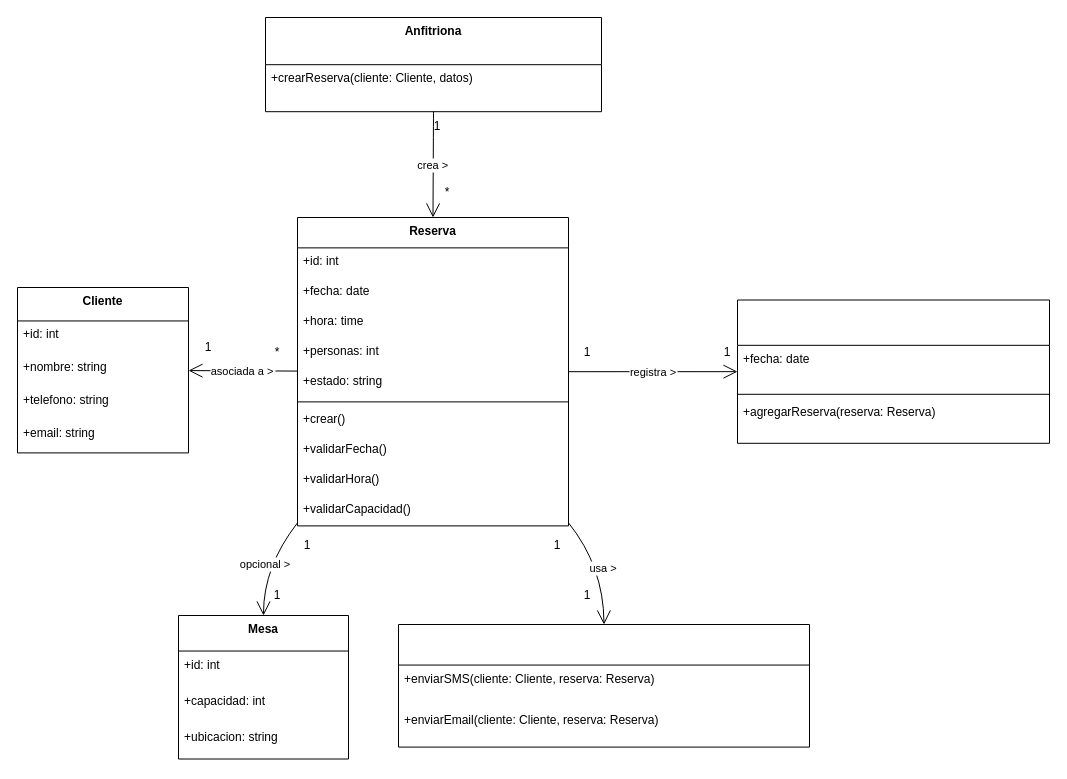
The diagram is 1067 pixels wide and 779 high, and some of its shapes have lost their labels. The shapes that lost their labels are listed below. From the top down, each one's box as (x1, y1, x2, y2) in pixels, then its label:
(736, 299, 1050, 443): Calendario
(398, 624, 810, 747): Notificador
